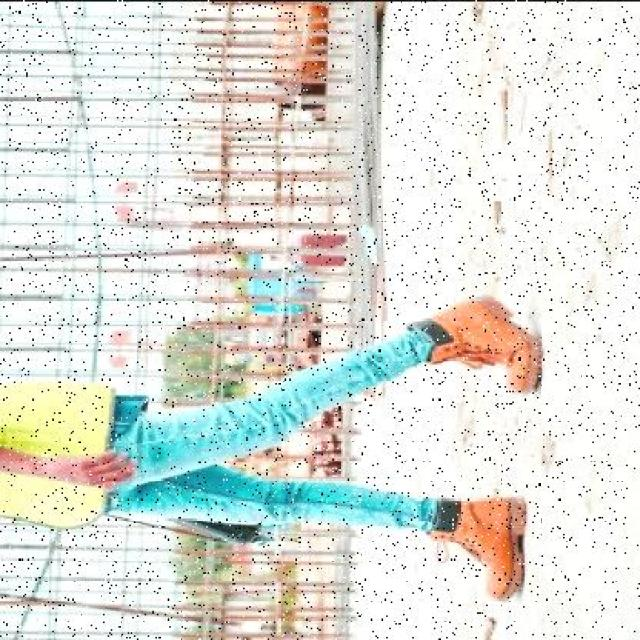shoes: (415, 295, 554, 394), (436, 494, 530, 603)
